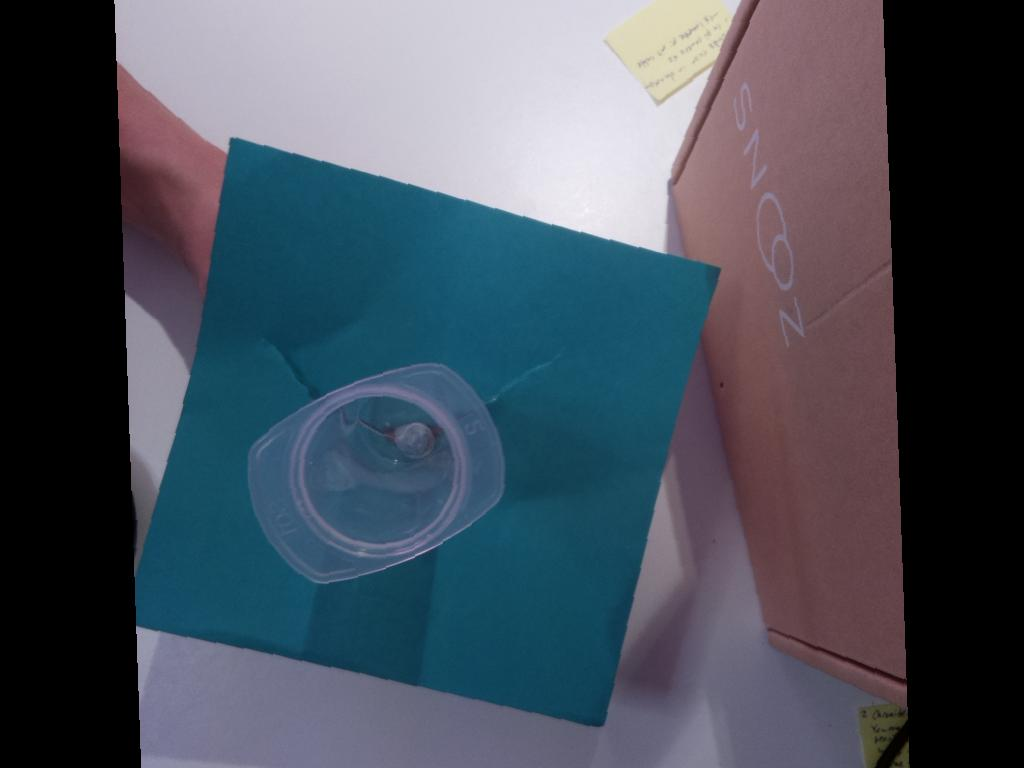clean: (247, 362, 503, 584)
